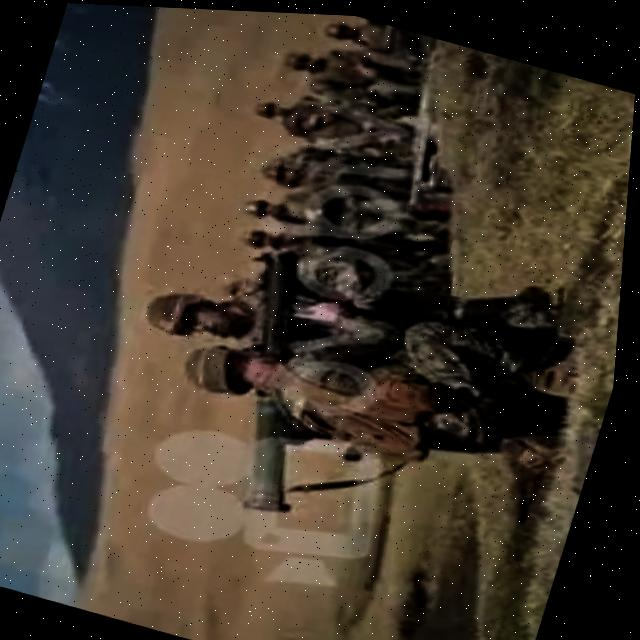rocket: (189, 236, 367, 523)
